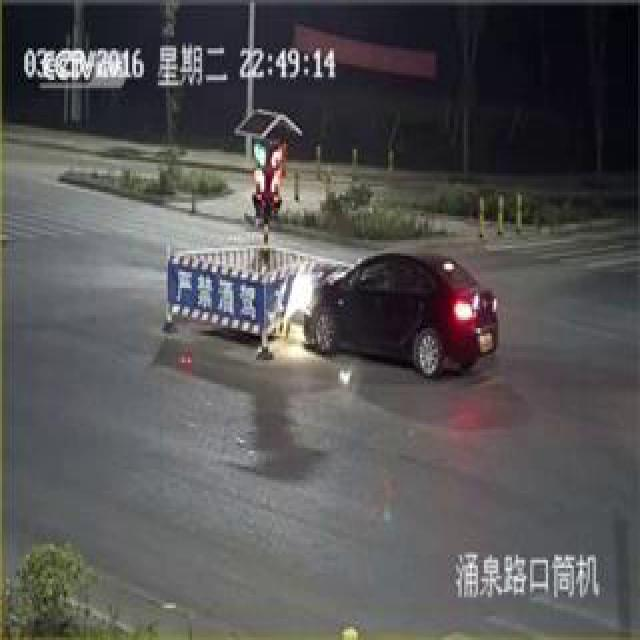vandalism: (210, 179, 526, 510)
